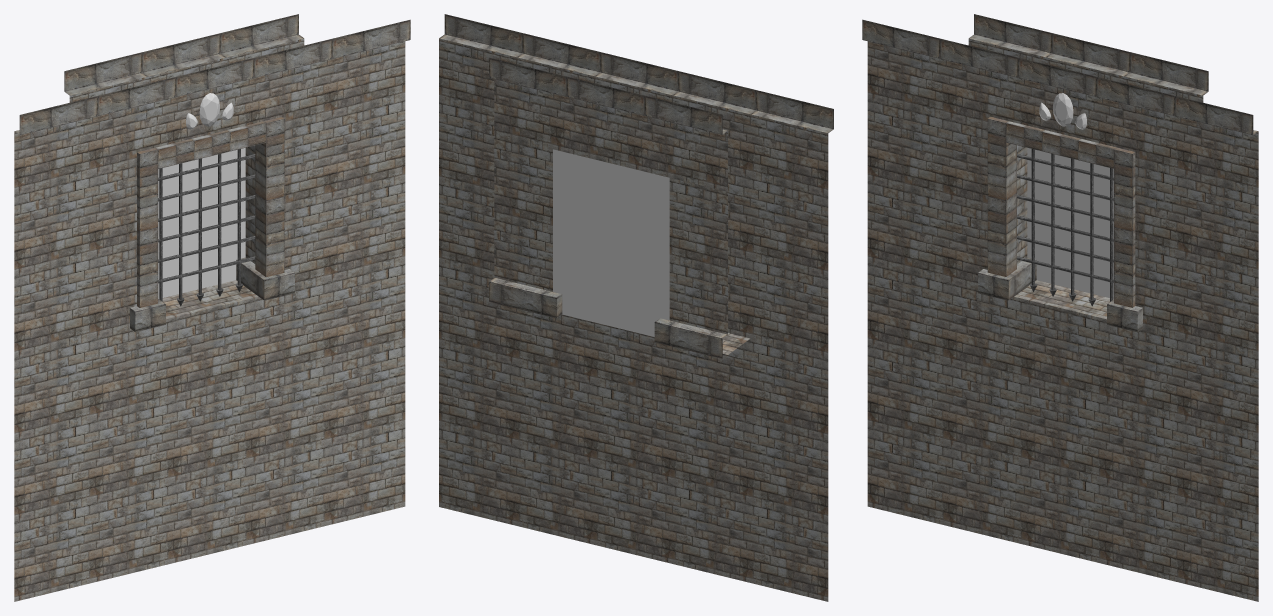
Rendered from WallGate.fbx.
The picture shows the model from 3 angles, left to right: view 1: azimuth 30°, elevation 25°; view 2: azimuth 150°, elevation 25°; view 3: azimuth 330°, elevation 25°; orthographic projection.
Parts seen in each view (by area): view 1: GateWall, GateFrame, BlackPlane, Gate, Gems; view 2: GateWall, BlackPlane; view 3: GateWall, GateFrame, BlackPlane, Gate, Gems.
Boxes of the visible parts, x1=… form: GateWall: x1=14, y1=14, x2=410, y2=601; GateFrame: x1=137, y1=117, x2=284, y2=307; BlackPlane: x1=158, y1=148, x2=245, y2=298; Gate: x1=158, y1=149, x2=255, y2=306; Gems: x1=186, y1=93, x2=233, y2=129; GateWall: x1=439, y1=14, x2=833, y2=601; BlackPlane: x1=553, y1=149, x2=669, y2=336; GateWall: x1=862, y1=14, x2=1258, y2=601; GateFrame: x1=987, y1=116, x2=1135, y2=307; BlackPlane: x1=1027, y1=148, x2=1113, y2=298; Gate: x1=1017, y1=149, x2=1113, y2=306; Gems: x1=1039, y1=93, x2=1086, y2=129.
Bounding box in the file's own units: 750 × 900 × 112.
